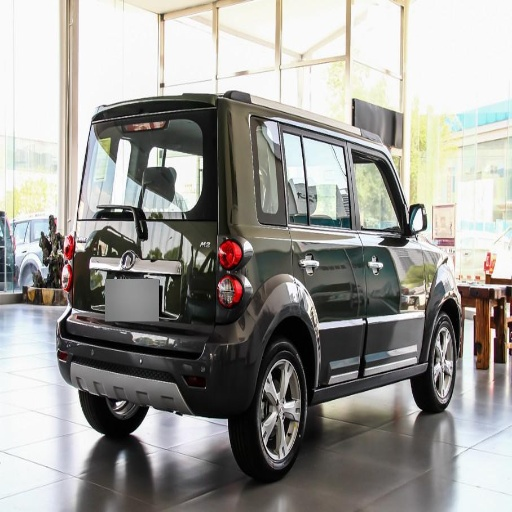back_bumper: (58, 313, 261, 407)
back_right_door: (281, 128, 366, 380)
trunk: (66, 225, 215, 348)
